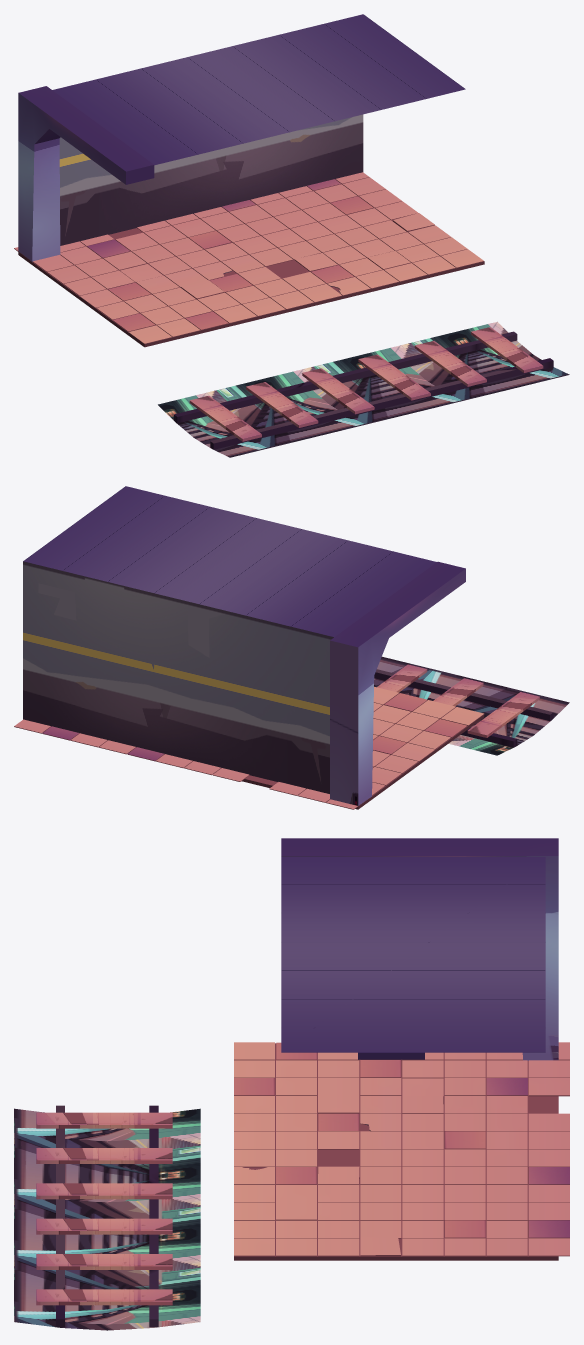
The model's file is pared_y_suelo_1.fbx.
3 renders of one model, top to bottom at view 1: azimuth 30°, elevation 25°; view 2: azimuth 150°, elevation 25°; view 3: azimuth 270°, elevation 25°, orthographic. The views are drawn at different scales.
Visible parts, largest first — view 1: Cube.028; view 2: Cube.028; view 3: Cube.028.
Boxes of the visible parts, x1,y1,x2,y2 form: Cube.028: (14, 14, 569, 457); Cube.028: (14, 486, 569, 809); Cube.028: (14, 838, 569, 1330).
Bounding box in the file's own units: 427 × 260 × 470.
